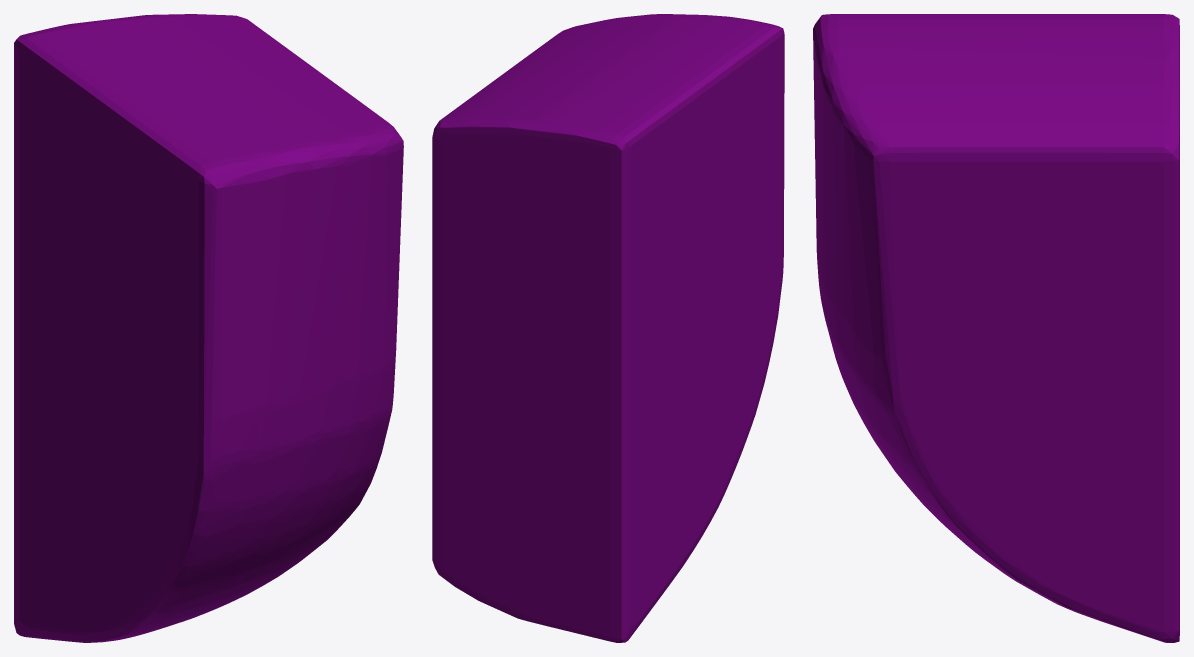
File: left_th_distal_pst_part_11.obj
The picture shows the model from 3 angles, left to right: view 1: azimuth 30°, elevation 25°; view 2: azimuth 150°, elevation 25°; view 3: azimuth 270°, elevation 25°; orthographic projection. The views are drawn at different scales.
Size of the model in its own units: 5.54 by 13.73 by 8.15.
